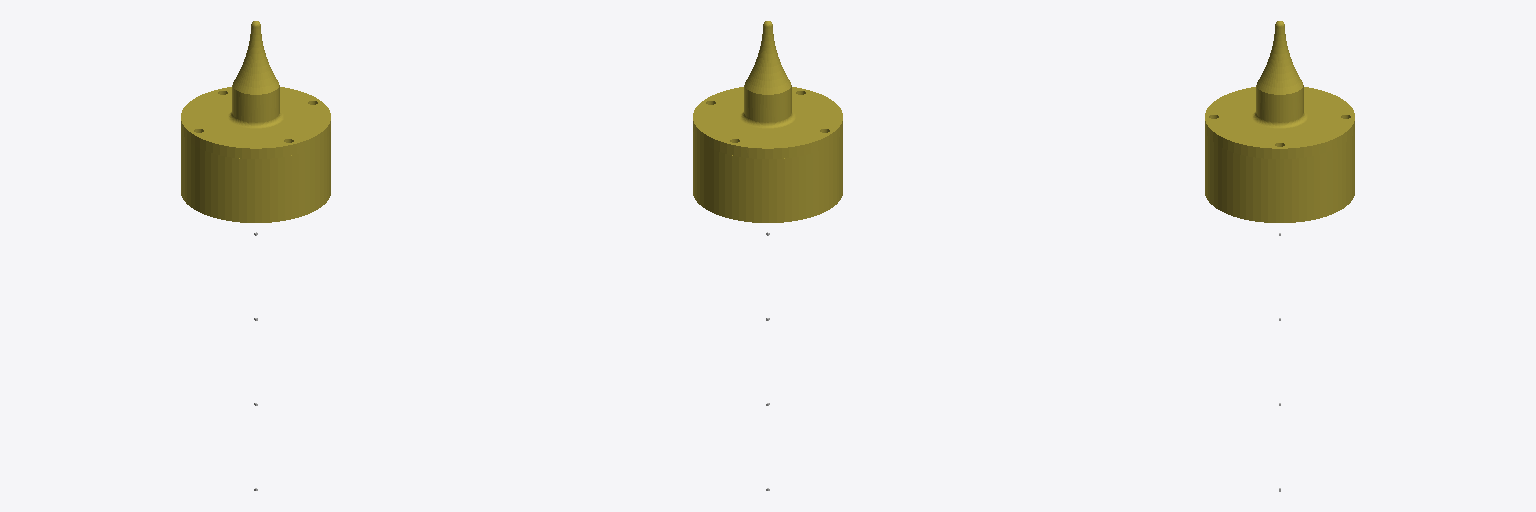
robot.urdf — SurrogateModel:
<?xml version="1.0" ?>
<robot name="SurrogateModel">
    <link name="link0">
        <visual>
          <geometry>
            <mesh filename="package://mesh3/base.stl"/>
          </geometry>
          <material name="color0"/>
        </visual>
        <collision>
          <geometry>
            <mesh filename="package://mesh3/base.stl"/>
          </geometry>
          <material name="color0"/>
        </collision>
        <inertial>
          <origin xyz="0 0 0" rpy="0 0 0"/>
          <mass value="1"/>
          <inertia ixx="0.3" ixy="0.0" ixz="0.0" iyy="0.3" iyz="0.0" izz="0.3"/>
        </inertial>
    </link>

    <link name="link1">
        <visual>
          <geometry>
            <mesh filename="package://mesh3/Rib.stl"/>
          </geometry>
          <material name="color1"/>
        </visual>
        <collision>
          <geometry>
            <mesh filename="package://mesh3/Rib.stl"/>
          </geometry>
          <material name="color1"/>
        </collision>
        <inertial>
          <origin xyz="0 0 0" rpy="0 0 0"/>
          <mass value="1"/>
          <inertia ixx="0.3" ixy="0.0" ixz="0.0" iyy="0.3" iyz="0.0" izz="0.3"/>
        </inertial>
    </link>

    <link name="intermediate_link0">
        <visual>
          <geometry>
            <box size="0.001 0.001 0.001"/>
          </geometry>
          <material name="color2"/>
        </visual>
        <collision>
          <geometry>
            <box size="0.001 0.001 0.001"/>
          </geometry>
          <material name="color2"/>
        </collision>
        <inertial>
          <origin xyz="0 0 0.0" rpy="0 0 0"/>
          <mass value="0.001"/>
          <inertia ixx="0.0001" ixy="0.0" ixz="0.0" iyy="0.0001" iyz="0.0" izz="0.0001"/>
        </inertial>
    </link>


    <joint name="joint0" type="revolute">
        <safety_controller k_position="100.0" k_velocity="40.0" soft_lower_limit="-1.5709" soft_upper_limit="1.5709"/>
        <origin rpy="0 0 0" xyz="0 0 0.02"/>
        <parent link="link0"/>
        <child link="intermediate_link0"/>
        <axis xyz="1 0 0"/>
        <limit effort="87" lower="-0.2094" upper="0.2094" velocity="0.5"/>
        <dynamics damping="0.5" friction="0.1"/>
        <spring_stiffness value ="10"/>
    </joint>

    <joint name="joint1" type="revolute">
        <safety_controller k_position="100.0" k_velocity="40.0" soft_lower_limit="-1.5709" soft_upper_limit="1.5709"/>
        <origin rpy="0 0 0" xyz="0 0 0.015"/>
        <parent link="intermediate_link0"/>
        <child link="link1"/>
        <axis xyz="0 1 0"/>
        <limit effort="87" lower="-0.40" upper="0.40" velocity="0.5"/>
        <dynamics damping="0.5" friction="0.1"/>
        <spring_stiffness value ="10"/>
    </joint>


    <link name="link2">
      <visual>
        <geometry>
          <mesh filename="package://mesh3/Rib.stl"/>
        </geometry>
        <material name="color1"/>
      </visual>
      <collision>
        <geometry>
          <mesh filename="package://mesh3/Rib.stl"/>
        </geometry>
        <material name="color1"/>
      </collision>
      <inertial>
        <origin xyz="0 0 0" rpy="0 0 0"/>
        <mass value="1"/>
        <inertia ixx="0.3" ixy="0.0" ixz="0.0" iyy="0.3" iyz="0.0" izz="0.3"/>
      </inertial>
  </link>

  <joint name="joint2" type="prismatic">
    
    <origin rpy="0 0 0" xyz="0 0 0.005"/>
    <parent link="link1"/>
    <child link="link2"/>
    <axis xyz="0 0 1"/>
    <limit effort="1000.0" lower="0.00" upper="0.02" velocity="0.5"/>
    <dynamics damping="0.5" friction="0.1"/>
    <spring_stiffness value ="10"/>
</joint>

<link name="intermediate_link1">
  <visual>
    <geometry>
      <box size="0.001 0.001 0.001"/>
    </geometry>
    <material name="color2"/>
  </visual>
  <collision>
    <geometry>
      <box size="0.001 0.001 0.001"/>
    </geometry>
    <material name="color2"/>
  </collision>
  <inertial>
    <origin xyz="0 0 0.0" rpy="0 0 0"/>
    <mass value="0.001"/>
    <inertia ixx="0.0001" ixy="0.0" ixz="0.0" iyy="0.0001" iyz="0.0" izz="0.0001"/>
  </inertial>
</link>

<link name="link3">
  <visual>
    <geometry>
      <mesh filename="package://mesh3/Rib.stl"/>
    </geometry>
    <material name="color1"/>
  </visual>
  <collision>
    <geometry>
      <mesh filename="package://mesh3/Rib.stl"/>
    </geometry>
    <material name="color1"/>
  </collision>
  <inertial>
    <origin xyz="0 0 0" rpy="0 0 0"/>
    <mass value="1"/>
    <inertia ixx="0.3" ixy="0.0" ixz="0.0" iyy="0.3" iyz="0.0" izz="0.3"/>
  </inertial>
</link>

<joint name="joint3" type="revolute">
  <safety_controller k_position="100.0" k_velocity="40.0" soft_lower_limit="-1.5709" soft_upper_limit="1.5709"/>
  <origin rpy="0 0 0" xyz="0 0 0.02"/>
  <parent link="link2"/>
  <child link="intermediate_link1"/>
  <axis xyz="1 0 0"/>
  <limit effort="87" lower="-0.2094" upper="0.2094" velocity="0.5"/>
  <dynamics damping="0.5" friction="0.1"/>
  <spring_stiffness value ="10"/>
</joint>

<joint name="joint4" type="revolute">
  <safety_controller k_position="100.0" k_velocity="40.0" soft_lower_limit="-1.5709" soft_upper_limit="1.5709"/>
  <origin rpy="0 0 0" xyz="0 0 0.015"/>
  <parent link="intermediate_link1"/>
  <child link="link3"/>
  <axis xyz="0 1 0"/>
  <limit effort="87" lower="-0.40" upper="0.40" velocity="0.5"/>
  <dynamics damping="0.5" friction="0.1"/>
  <spring_stiffness value ="10"/>
</joint>

<link name="link4">
  <visual>
    <geometry>
      <mesh filename="package://mesh3/Rib.stl"/>
    </geometry>
    <material name="color1"/>
  </visual>
  <collision>
    <geometry>
      <mesh filename="package://mesh3/Rib.stl"/>
    </geometry>
    <material name="color1"/>
  </collision>
  <inertial>
    <origin xyz="0 0 0" rpy="0 0 0"/>
    <mass value="1"/>
    <inertia ixx="0.3" ixy="0.0" ixz="0.0" iyy="0.3" iyz="0.0" izz="0.3"/>
  </inertial>
</link>

<joint name="joint5" type="prismatic">

  <origin rpy="0 0 0" xyz="0 0 0.005"/>
  <parent link="link3"/>
  <child link="link4"/>
  <axis xyz="0 0 1"/>
  <limit effort="1000.0" lower="0.00" upper="0.02" velocity="0.5"/>
  <dynamics damping="0.5" friction="0.1"/>
  <spring_stiffness value ="10"/>
</joint>

<link name="intermediate_link2">
<visual>
<geometry>
  <box size="0.001 0.001 0.001"/>
</geometry>
<material name="color2"/>
</visual>
<collision>
<geometry>
  <box size="0.001 0.001 0.001"/>
</geometry>
<material name="color2"/>
</collision>
<inertial>
<origin xyz="0 0 0.0" rpy="0 0 0"/>
<mass value="0.001"/>
<inertia ixx="0.0001" ixy="0.0" ixz="0.0" iyy="0.0001" iyz="0.0" izz="0.0001"/>
</inertial>
</link>

<link name="link5">
<visual>
<geometry>
  <mesh filename="package://mesh3/Rib.stl"/>
</geometry>
<material name="color1"/>
</visual>
<collision>
<geometry>
  <mesh filename="package://mesh3/Rib.stl"/>
</geometry>
<material name="color1"/>
</collision>
<inertial>
<origin xyz="0 0 0" rpy="0 0 0"/>
<mass value="1"/>
<inertia ixx="0.3" ixy="0.0" ixz="0.0" iyy="0.3" iyz="0.0" izz="0.3"/>
</inertial>
</link>

<joint name="joint6" type="revolute">
<safety_controller k_position="100.0" k_velocity="40.0" soft_lower_limit="-1.5709" soft_upper_limit="1.5709"/>
<origin rpy="0 0 0" xyz="0 0 0.02"/>
<parent link="link4"/>
<child link="intermediate_link2"/>
<axis xyz="1 0 0"/>
<limit effort="87" lower="-0.2094" upper="0.2094" velocity="0.5"/>
<dynamics damping="0.5" friction="0.1"/>
<spring_stiffness value ="10"/>
</joint>

<joint name="joint7" type="revolute">
<safety_controller k_position="100.0" k_velocity="40.0" soft_lower_limit="-1.5709" soft_upper_limit="1.5709"/>
<origin rpy="0 0 0" xyz="0 0 0.015"/>
<parent link="intermediate_link2"/>
<child link="link5"/>
<axis xyz="0 1 0"/>
<limit effort="87" lower="-0.4" upper="0.4" velocity="0.5"/>
<dynamics damping="0.5" friction="0.1"/>
<spring_stiffness value ="10"/>
</joint>



<link name="link6">
  <visual>
    <geometry>
      <mesh filename="package://mesh3/Rib.stl"/>
    </geometry>
    <material name="color1"/>
  </visual>
  <collision>
    <geometry>
      <mesh filename="package://mesh3/Rib.stl"/>
    </geometry>
    <material name="color1"/>
  </collision>
  <inertial>
    <origin xyz="0 0 0" rpy="0 0 0"/>
    <mass value="1"/>
    <inertia ixx="0.3" ixy="0.0" ixz="0.0" iyy="0.3" iyz="0.0" izz="0.3"/>
  </inertial>
</link>

<joint name="joint8" type="prismatic">

<origin rpy="0 0 0" xyz="0 0 0.005"/>
<parent link="link5"/>
<child link="link6"/>
<axis xyz="0 0 1"/>
<limit effort="1000.0" lower="0.00" upper="0.02" velocity="0.5"/>
<dynamics damping="0.5" friction="0.1"/>
<spring_stiffness value ="10"/>
</joint>

<link name="intermediate_link3">
<visual>
<geometry>
  <box size="0.001 0.001 0.001"/>
</geometry>
<material name="color2"/>
</visual>
<collision>
<geometry>
  <box size="0.001 0.001 0.001"/>
</geometry>
<material name="color2"/>
</collision>
<inertial>
<origin xyz="0 0 0.0" rpy="0 0 0"/>
<mass value="0.001"/>
<inertia ixx="0.0001" ixy="0.0" ixz="0.0" iyy="0.0001" iyz="0.0" izz="0.0001"/>
</inertial>
</link>

<link name="link7">
<visual>
<geometry>
  <mesh filename="package://mesh3/base.stl"/>
</geometry>
<material name="color0"/>
</visual>
<collision>
<geometry>
  <mesh filename="package://mesh3/base.stl"/>
</geometry>
<material name="color0"/>
</collision>
<inertial>
<origin xyz="0 0 0" rpy="0 0 0"/>
<mass value="1"/>
<inertia ixx="0.3" ixy="0.0" ixz="0.0" iyy="0.3" iyz="0.0" izz="0.3"/>
</inertial>
</link>

<joint name="joint9" type="revolute">
<safety_controller k_position="100.0" k_velocity="40.0" soft_lower_limit="-1.5709" soft_upper_limit="1.5709"/>
<origin rpy="0 0 0" xyz="0 0 0.02"/>
<parent link="link6"/>
<child link="intermediate_link3"/>
<axis xyz="1 0 0"/>
<limit effort="87" lower="-0.2094" upper="0.2094" velocity="0.5"/>
<dynamics damping="0.5" friction="0.1"/>
<spring_stiffness value ="10"/>
</joint>

<joint name="joint10" type="revolute">
<safety_controller k_position="100.0" k_velocity="40.0" soft_lower_limit="-1.5709" soft_upper_limit="1.5709"/>
<origin rpy="0 0 0" xyz="0 0 0.015"/>
<parent link="intermediate_link3"/>
<child link="link7"/>
<axis xyz="0 1 0"/>
<limit effort="87" lower="-0.4" upper="0.4" velocity="0.5"/>
<dynamics damping="0.5" friction="0.1"/>
<spring_stiffness value ="10"/>
</joint>

<link name="link8">
<visual>
<geometry>
  <mesh filename="package://mesh3/IntegratedToolTip.stl"/>
</geometry>
<material name="color3"/>
</visual>
<collision>
<geometry>
  <mesh filename="package://mesh3/IntegratedToolTip.stl"/>
</geometry>
<material name="color3"/>
</collision>
<inertial>
<origin xyz="0 0 0" rpy="0 0 0"/>
<mass value="0.1"/>
<inertia ixx="0.3" ixy="0.0" ixz="0.0" iyy="0.3" iyz="0.0" izz="0.3"/>
</inertial>
</link>

<joint name="joint11" type="fixed">
        <origin rpy="0 0 0" xyz="0 0 0.005"/>
        <parent link="link7"/>
        <child link="link8"/>
        <axis xyz="0 0 1"/>
</joint>




    <material name="color0">
      <color rgba="0.0  0.0 0.0 0.8"/>
    </material>

    <material name="color1">
        <color rgba="1.0000    0.9373    0.8706 1.0"/>
    </material>

    

    <material name="color2">
        <color rgba=".8 .8 .8 1."/>
    </material>

    <material name="color3">
        <color rgba="0.7098 0.6510 0.2588  1.0"/>
    </material>

    <material name="color4">
      <color rgba="0.0863 0.3255 0.4314 1.0"/>
  </material>
</robot>

--- What the picture shows (computed from the rendered views, not written in the file) ---
The picture shows the robot from 3 angles, left to right: view 1: azimuth 30°, elevation 25°; view 2: azimuth 150°, elevation 25°; view 3: azimuth 270°, elevation 25°; orthographic projection.
Robot: SurrogateModel — 13 links, 12 joints (8 revolute, 3 prismatic, 1 fixed); root link link0; default pose: every joint at zero.
Visible links, largest first — view 1: link8; view 2: link8; view 3: link8.
Boxes of the visible links, box(x1,y1,x2,y2) form: link8: box(181, 21, 330, 222); link8: box(693, 21, 842, 222); link8: box(1205, 21, 1354, 222).
Size in the robot's own frame: 0.064 by 0.064 by 0.2205 metres.
Meshes: 3 distinct files referenced, 1 mesh visuals loaded (1 binary STL); not drawn: 8 (reference not matched to a file when rendering).